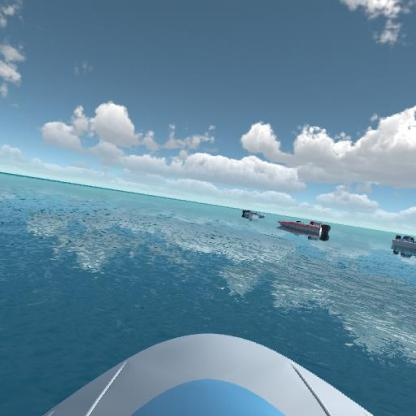usv1: (385, 230, 415, 258), (241, 203, 267, 221)
usv3: (277, 214, 336, 240)
